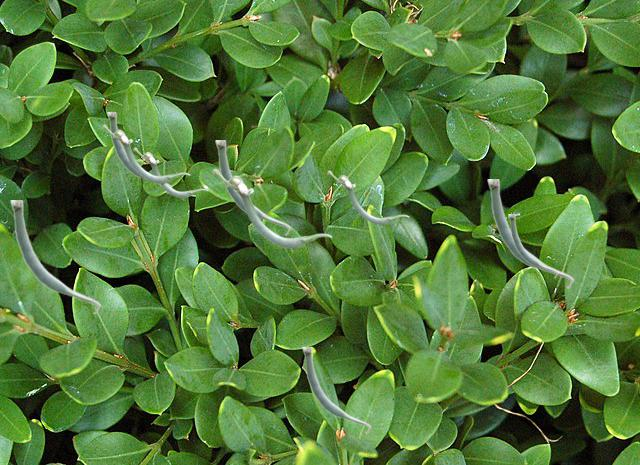french_bean: (10, 200, 100, 314), (212, 168, 331, 251), (487, 179, 573, 288), (215, 140, 290, 235), (302, 347, 370, 433), (102, 124, 189, 185), (107, 112, 171, 193), (327, 170, 408, 226), (133, 147, 207, 199), (508, 214, 557, 277)
